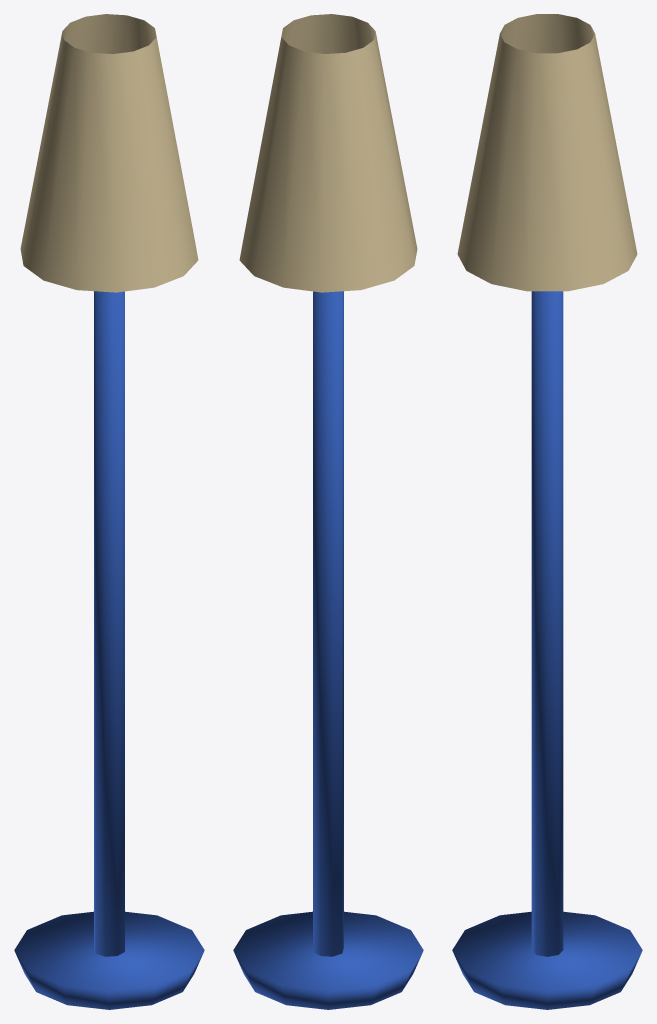
File: mushroom_lamp_v0.glb
3 renders of one model, left to right at view 1: azimuth 30°, elevation 25°; view 2: azimuth 150°, elevation 25°; view 3: azimuth 270°, elevation 25°, orthographic.
Visible parts, largest first — view 1: mushroom_lamp_v0; view 2: mushroom_lamp_v0; view 3: mushroom_lamp_v0.
Part boxes in pixels (left/top/right/bottom): mushroom_lamp_v0: left=14, top=14, right=204, bottom=1009; mushroom_lamp_v0: left=233, top=14, right=423, bottom=1009; mushroom_lamp_v0: left=452, top=14, right=642, bottom=1009.
Bounding box in the file's own units: 0.36 × 1.96 × 0.36.
